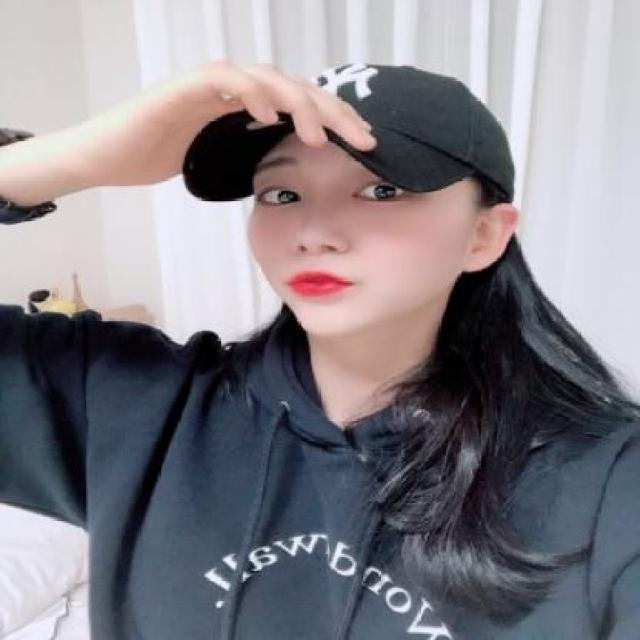hat: (183, 61, 522, 197)
